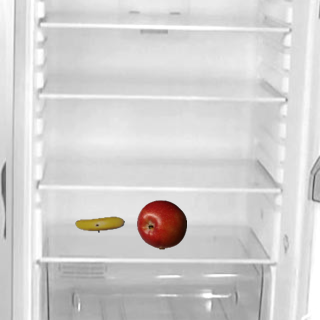Apple Braeburn: (136, 199, 186, 249)
Banana: (74, 199, 124, 249)
